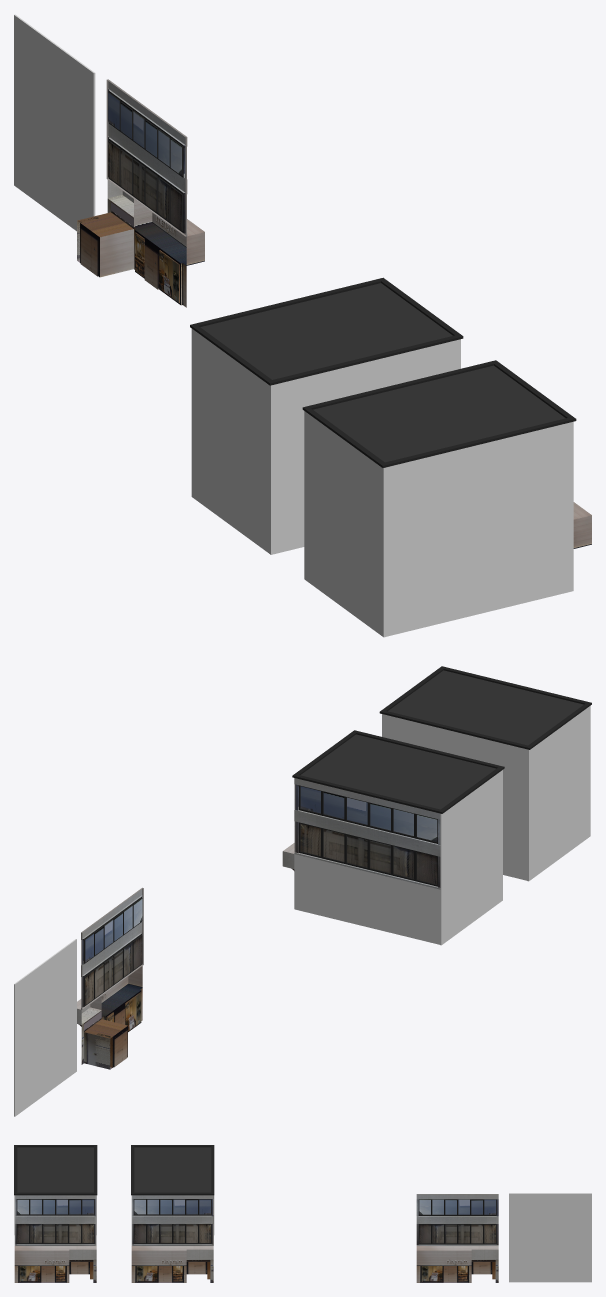
3 renders of one model, top to bottom at view 1: azimuth 30°, elevation 25°; view 2: azimuth 150°, elevation 25°; view 3: azimuth 270°, elevation 25°, orthographic. The views are drawn at different scales.
Parts seen in each view (by area): view 1: wall.001, Roof.001, Roof.002, wall.004, wall.003, 003.3_Building_facade, wall.005, 003.1_Building_facade, 003.2_Building_facade; view 2: Building_facade_3.006, Roof.001, Roof.002, 003.3_Building_facade, wall.003, wall.004, wall.006, wall.001, 003.2_Building_facade, 003.1_Building_facade; view 3: 003.3_Building_facade, 003.2_Building_facade, Roof.001, Roof.002, Building_facade_3.005, Building_facade_3.003, 003.1_Building_facade, Building_facade_3.002, Building_facade_3.004, wall.001.
Boxes of the visible parts, left/top/right/bottom form: wall.001: left=385, top=421, right=573, bottom=636; Roof.001: left=302, top=360, right=576, bottom=467; Roof.002: left=190, top=277, right=463, bottom=385; wall.004: left=191, top=328, right=272, bottom=554; wall.003: left=304, top=411, right=385, bottom=637; 003.3_Building_facade: left=14, top=14, right=95, bottom=231; wall.005: left=272, top=339, right=460, bottom=554; 003.1_Building_facade: left=77, top=178, right=204, bottom=307; 003.2_Building_facade: left=106, top=79, right=187, bottom=236; Building_facade_3.006: left=294, top=778, right=440, bottom=889; Roof.001: left=379, top=666, right=591, bottom=749; Roof.002: left=292, top=730, right=504, bottom=813; 003.3_Building_facade: left=14, top=939, right=76, bottom=1116; wall.003: left=527, top=706, right=590, bottom=881; wall.004: left=440, top=770, right=502, bottom=945; wall.006: left=294, top=854, right=440, bottom=944; wall.001: left=382, top=714, right=527, bottom=880; 003.2_Building_facade: left=81, top=887, right=143, bottom=1009; 003.1_Building_facade: left=77, top=965, right=142, bottom=1069; 003.3_Building_facade: left=509, top=1193, right=591, bottom=1282; 003.2_Building_facade: left=416, top=1194, right=498, bottom=1245; Roof.001: left=14, top=1145, right=97, bottom=1195; Roof.002: left=131, top=1145, right=214, bottom=1195; Building_facade_3.005: left=132, top=1195, right=213, bottom=1245; Building_facade_3.003: left=15, top=1195, right=95, bottom=1245; 003.1_Building_facade: left=416, top=1246, right=498, bottom=1282; Building_facade_3.002: left=14, top=1246, right=96, bottom=1282; Building_facade_3.004: left=131, top=1246, right=213, bottom=1282; wall.001: left=14, top=1195, right=96, bottom=1245.
Bounding box in the file's own units: 14.46 × 11.32 × 66.27.
8 materials, 4 textured.
